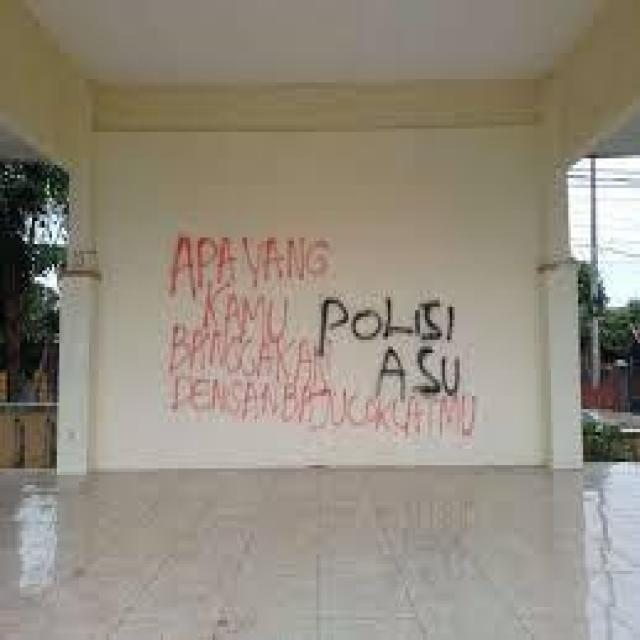nonspitting: (170, 230, 480, 436), (318, 294, 462, 394)
